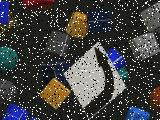Left: (64, 40, 126, 120)
